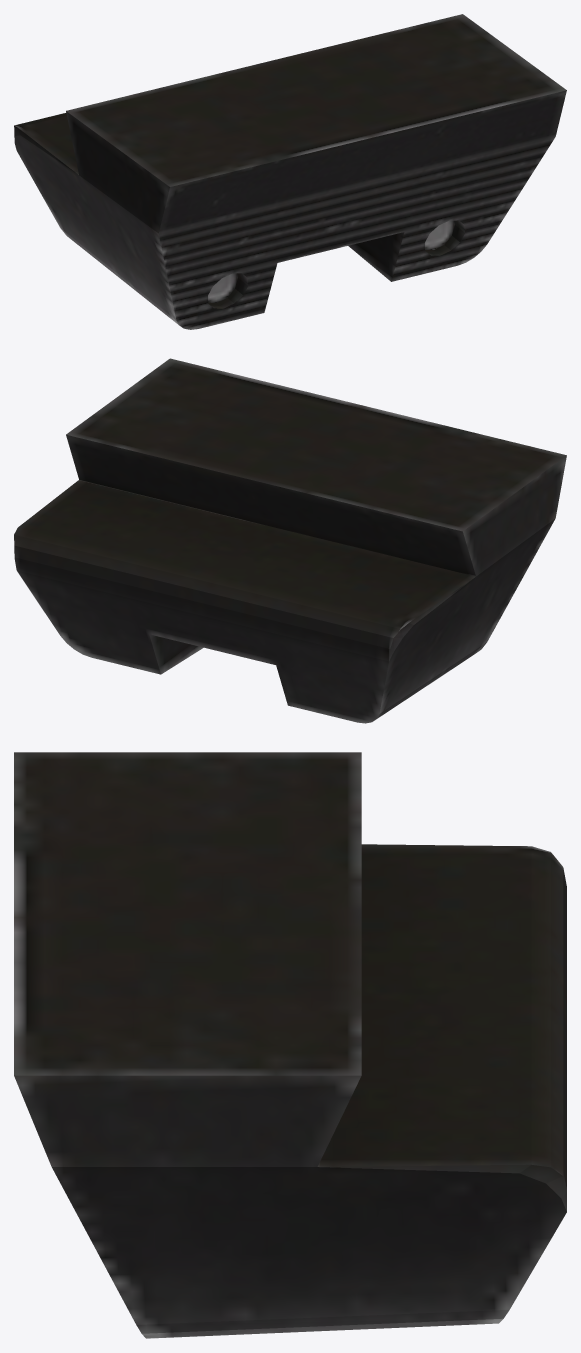
3 views of the same model, one above another, from view 1: azimuth 30°, elevation 25°; view 2: azimuth 150°, elevation 25°; view 3: azimuth 270°, elevation 25° (orthographic). The views are drawn at different scales.
Parts seen in each view (by area): view 1: TW_60229948cacb6b0506369e27_PZ_Import; view 2: TW_60229948cacb6b0506369e27_PZ_Import; view 3: TW_60229948cacb6b0506369e27_PZ_Import.
Boxes of the visible parts, x1=… form: TW_60229948cacb6b0506369e27_PZ_Import: x1=14, y1=14, x2=566, y2=329; TW_60229948cacb6b0506369e27_PZ_Import: x1=14, y1=358, x2=566, y2=723; TW_60229948cacb6b0506369e27_PZ_Import: x1=14, y1=752, x2=566, y2=1338.
Bounding box in the file's own units: 0.00929 × 0.00672 × 0.00422.
1 material, 1 textured.
